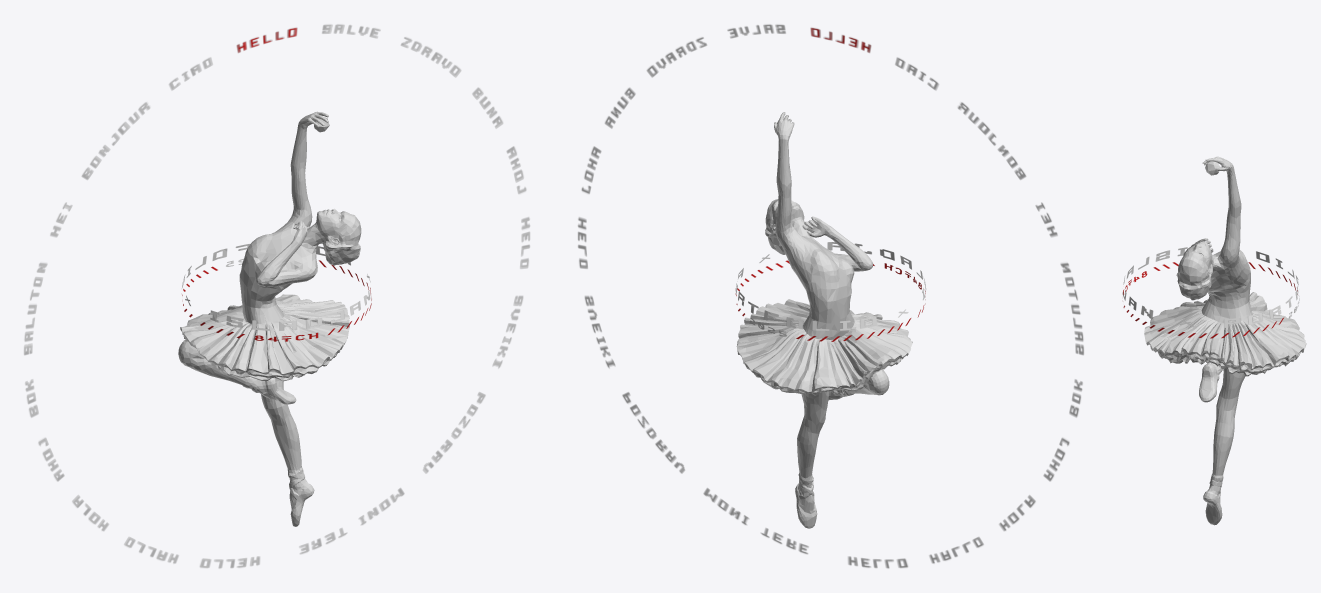
The model's file is ballerinaFirst.glb.
3 views of the same model, side by side, from view 1: azimuth 30°, elevation 25°; view 2: azimuth 150°, elevation 25°; view 3: azimuth 270°, elevation 25° (orthographic). The views are drawn at different scales.
Visible parts, largest first — view 1: figure1, outerRing, innerRing; view 2: figure1, outerRing, innerRing; view 3: figure1, innerRing.
Boxes of the visible parts, bbox=[...] form: figure1: bbox=[178, 111, 361, 526]; outerRing: bbox=[24, 24, 529, 568]; innerRing: bbox=[182, 243, 371, 341]; figure1: bbox=[736, 112, 912, 528]; outerRing: bbox=[578, 24, 1083, 568]; innerRing: bbox=[735, 242, 926, 341]; figure1: bbox=[1144, 156, 1306, 525]; innerRing: bbox=[1122, 247, 1299, 338].
Size of the model in its own units: 4.08 by 4.08 by 1.34.
Materials: 2 (2 with a texture image).
